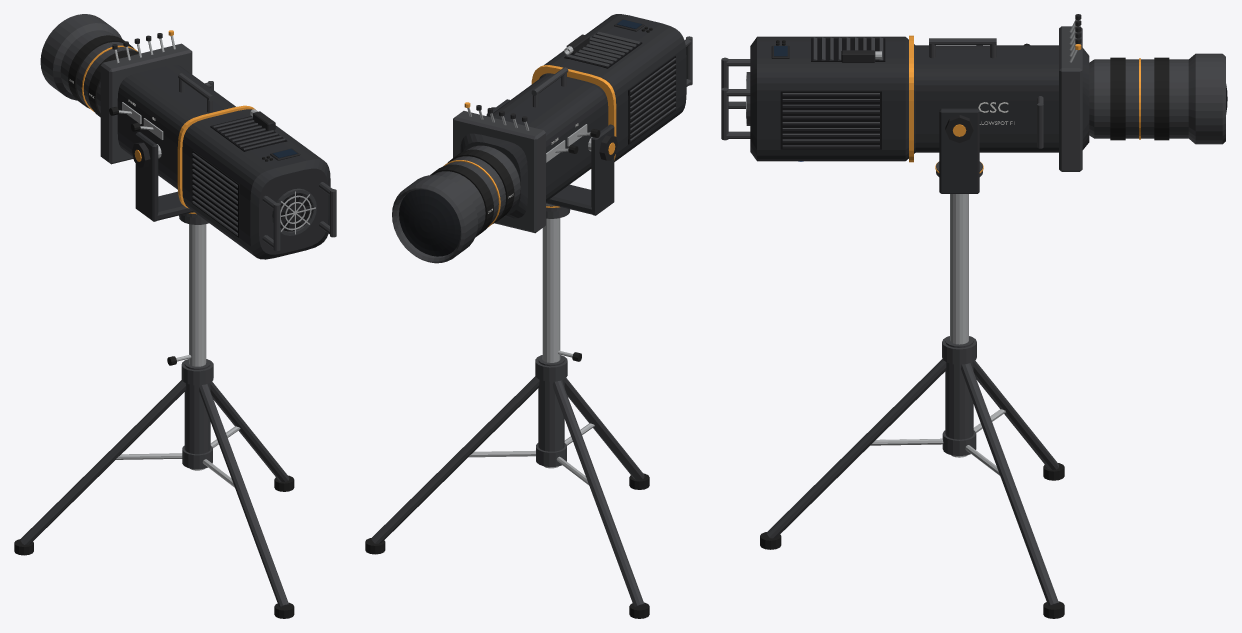
The model's file is csc_followspot_f1.glb.
3 views of the same model, side by side, from view 1: azimuth 30°, elevation 25°; view 2: azimuth 150°, elevation 25°; view 3: azimuth 270°, elevation 25° (orthographic). The views are drawn at different scales.
Parts seen in each view (by area): view 1: Head, Base, Yoke; view 2: Head, Base, Yoke; view 3: Head, Base, Yoke.
Boxes of the visible parts, x1,y1,x2,y2 form: Head: [40, 14, 336, 259]; Base: [14, 215, 294, 618]; Yoke: [132, 132, 201, 221]; Head: [392, 14, 692, 263]; Base: [365, 208, 649, 618]; Yoke: [486, 99, 617, 215]; Head: [721, 14, 1227, 171]; Base: [760, 194, 1064, 618]; Yoke: [935, 108, 983, 193].
Size of the model in its own units: 1.55 by 2.53 by 2.25.
